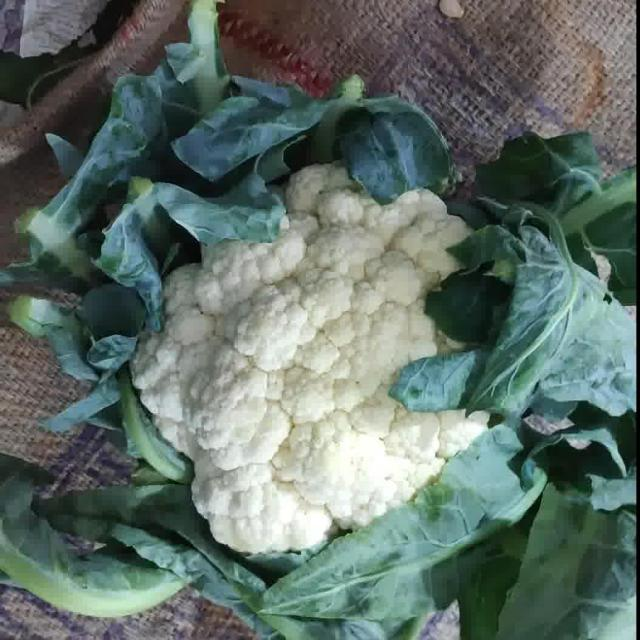Cauliflower: (130, 161, 511, 554)
